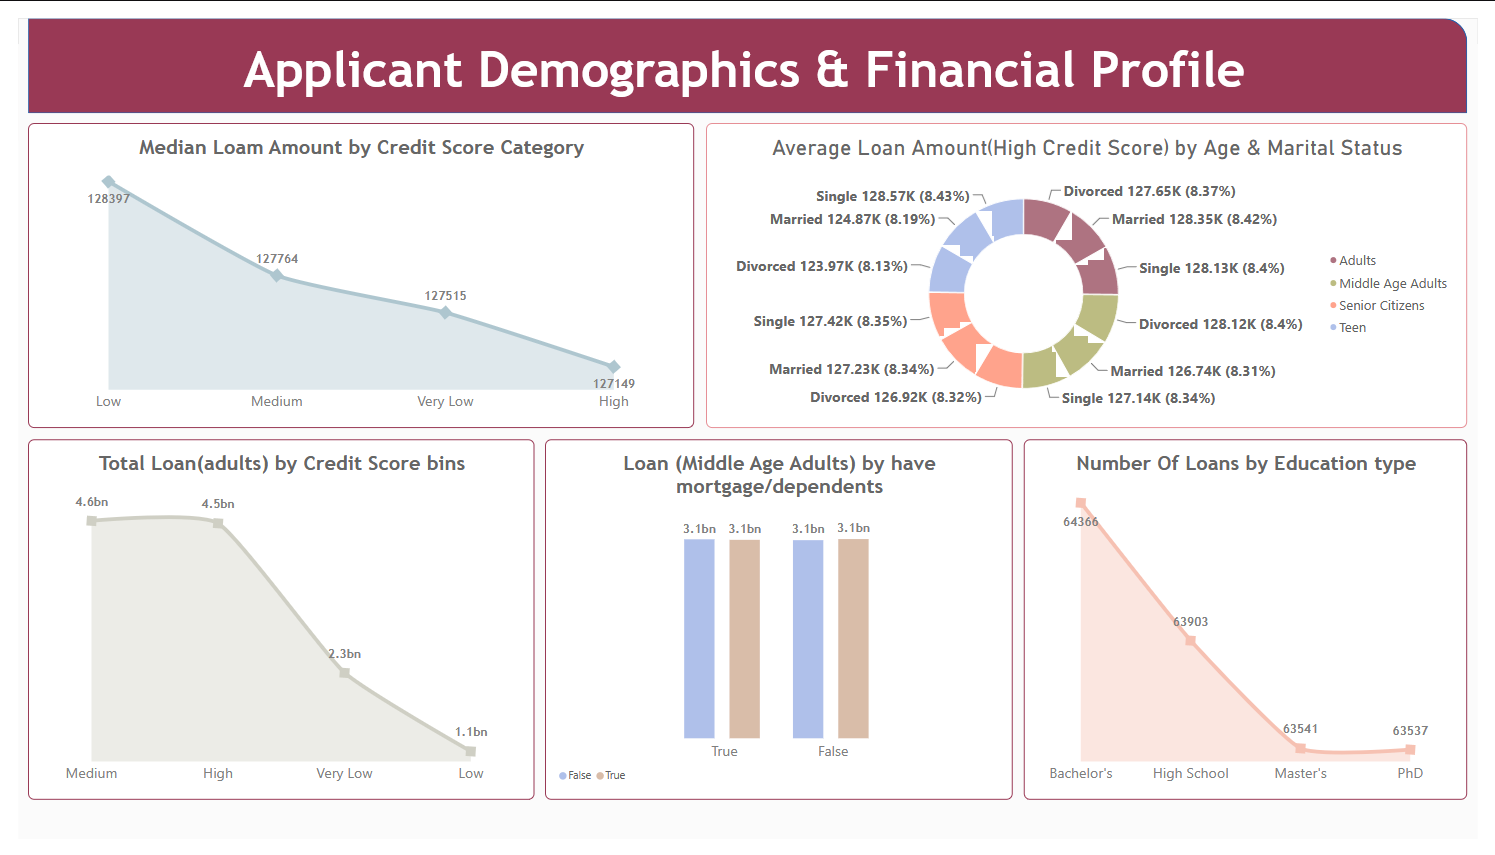

The dashboard page shown, as its layout file describes it:
{"tool":"powerbi","page":{"name":"Applicant demographics & finanical profile","canvas":[1920,1080],"ordinal":1},"visuals":[{"type":"shape","box":[12.7,0,1892.9,124.9],"z":0},{"type":"lineChart","title":"Median Loam Amount by Credit Score Category","fields":{"Category":["Loan_default.Credit Score bins"],"Y":["MeasuresTable2.Median by Credit Score bins"]},"box":[12.7,137.5,875.9,401.7],"z":1000},{"type":"donutChart","title":"Average Loan Amount(High Credit Score) by Age & Marital Status","fields":{"Category":["Loan_default.Age Group"],"Series":["Loan_default.MaritalStatus"],"Y":["MeasuresTable2.Average Loan Amount(High Credit Score)"]},"box":[904.8,137.5,1000.7,401.7],"z":1001},{"type":"lineChart","title":"Total Loan(adults) by Credit Score bins","fields":{"Category":["Loan_default.Credit Score bins"],"Y":["MeasuresTable2.Total Loan (Credit Bins)"]},"box":[12.7,553.8,666,474.1],"z":1002},{"type":"clusteredColumnChart","title":"Loan (Middle Age Adults) by have mortgage/dependents","fields":{"Category":["Loan_default.HasMortgage"],"Series":["Loan_default.HasDependents"],"Y":["MeasuresTable2.Total Loan (Middle Age Adults)"]},"box":[693.1,553.8,615.3,474.1],"z":1003},{"type":"lineChart","title":"Number Of Loans by Education type","fields":{"Category":["Loan_default.Education"],"Y":["MeasuresTable2.Loans by Education Type"]},"box":[1322.9,553.8,582.7,474.1],"z":1004}]}

Visuals, with their boxes in screenshot pixels (x1, y1, x2, y2), scaled from the page's 1920x1080 canvas onto the 1495x855 screenshot:
shape: <bbox>10, 0, 1484, 99</bbox>
"Median Loam Amount by Credit Score Category" lineChart: <bbox>10, 109, 692, 427</bbox>
"Average Loan Amount(High Credit Score) by Age & Marital Status" donutChart: <bbox>705, 109, 1484, 427</bbox>
"Total Loan(adults) by Credit Score bins" lineChart: <bbox>10, 438, 528, 814</bbox>
"Loan (Middle Age Adults) by have mortgage/dependents" clusteredColumnChart: <bbox>540, 438, 1019, 814</bbox>
"Number Of Loans by Education type" lineChart: <bbox>1030, 438, 1484, 814</bbox>
